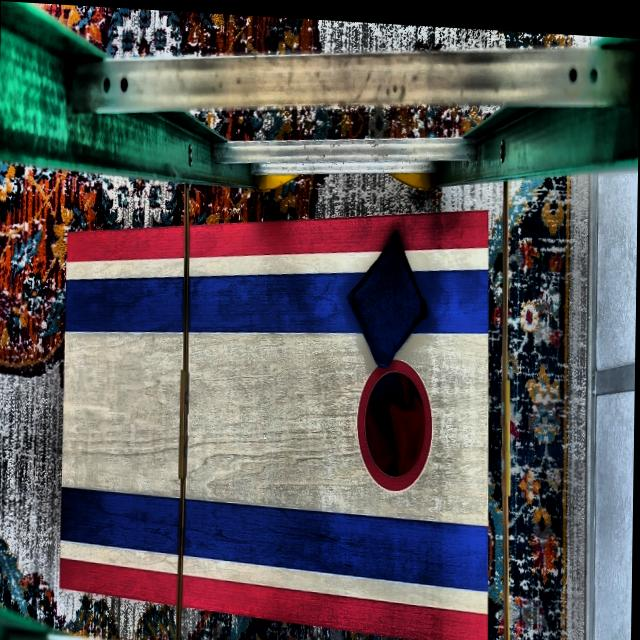blue-bean-bag: (347, 221, 432, 363)
blue-bean-bag-in-hole: (368, 366, 404, 438), (409, 371, 419, 402)
board: (63, 229, 488, 604)
hole: (357, 352, 434, 488)
red-bean-bag-in-hole: (391, 388, 426, 469), (364, 401, 399, 468), (394, 365, 410, 400)
